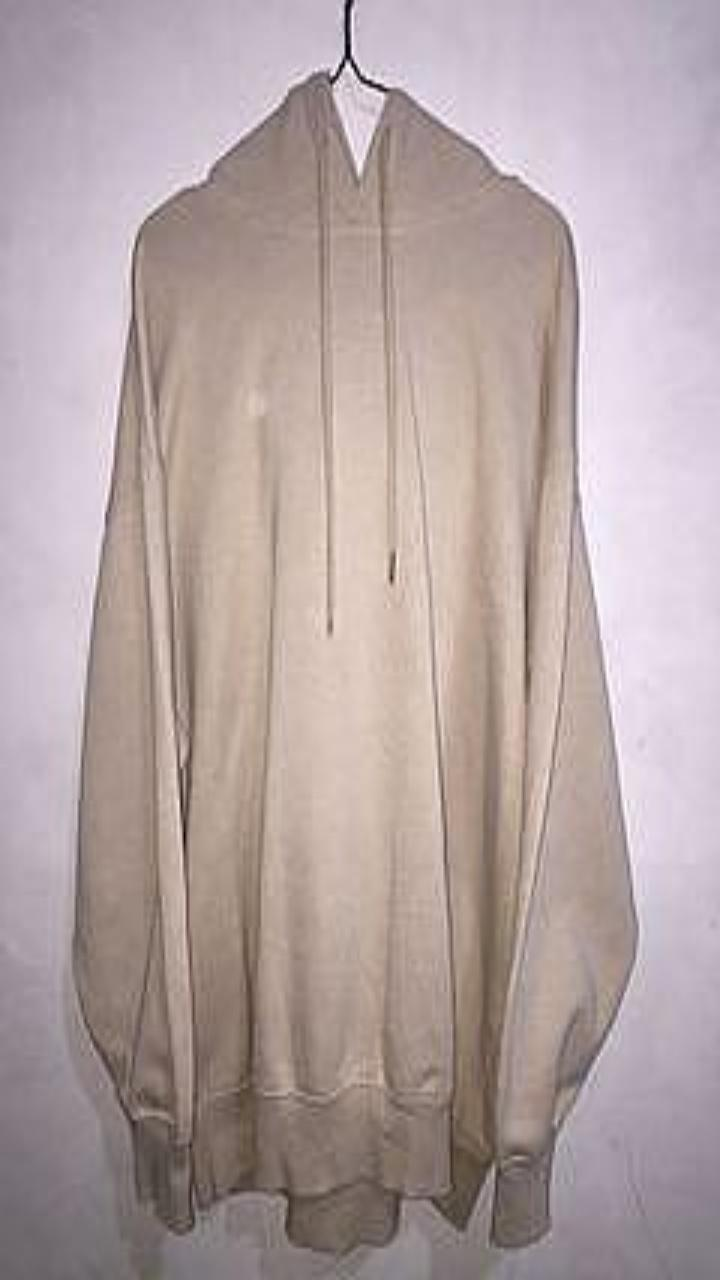Hoodie: (72, 70, 637, 1252)
